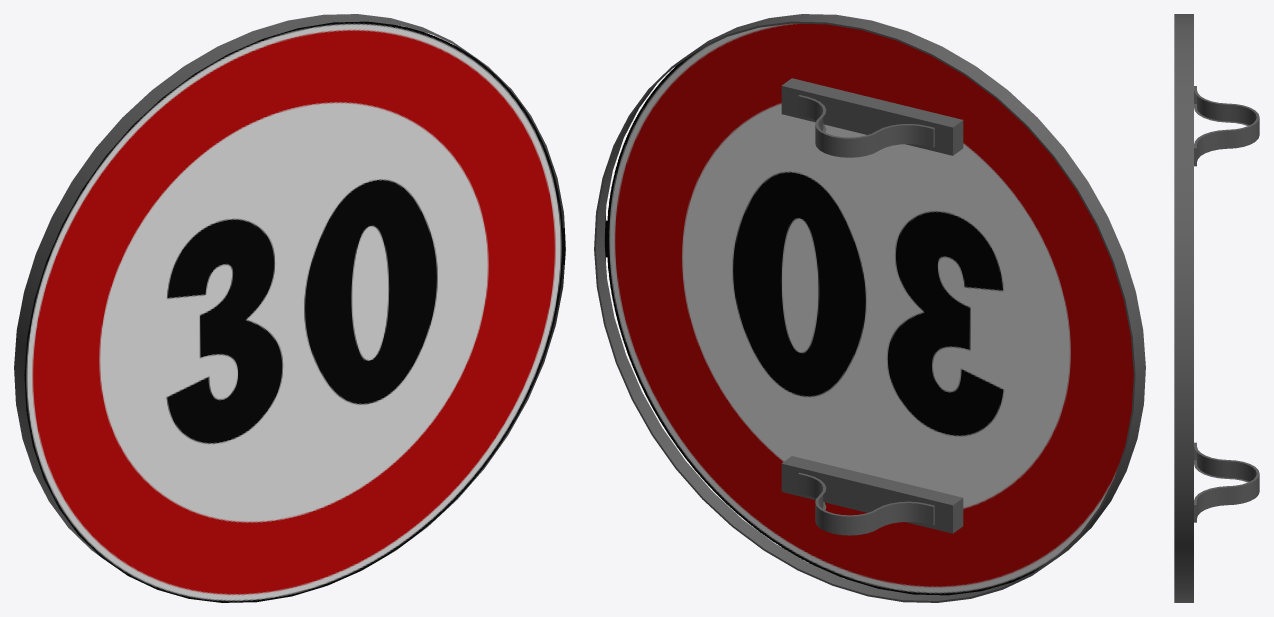
The picture shows the model from 3 angles, left to right: view 1: azimuth 30°, elevation 25°; view 2: azimuth 150°, elevation 25°; view 3: azimuth 270°, elevation 25°; orthographic projection. The views are drawn at different scales.
Parts seen in each view (by area): view 1: Sign.266; view 2: Sign.266; view 3: Sign.266.
Part boxes in pixels (x1=…): Sign.266: x1=14, y1=14, x2=565, y2=602; Sign.266: x1=594, y1=14, x2=1145, y2=602; Sign.266: x1=1174, y1=14, x2=1259, y2=602.
Size of the model in its own units: 0.6 by 0.0869 by 0.6.
Materials: 2 (1 with a texture image).
